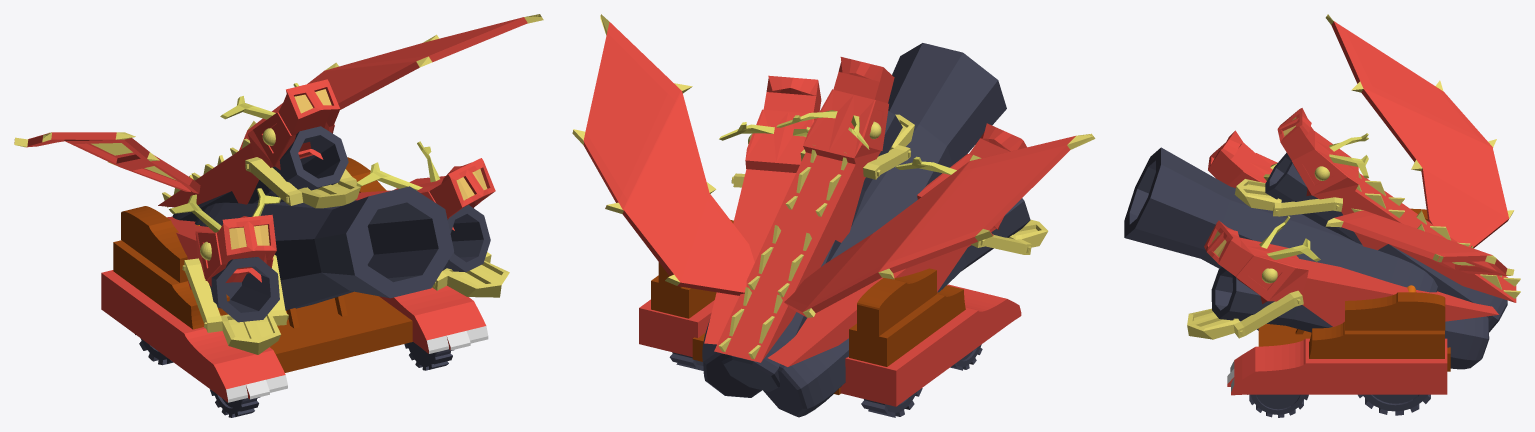
Rendered from Fire Tower Level 3.fbx.
3 renders of one model, left to right at view 1: azimuth 30°, elevation 25°; view 2: azimuth 150°, elevation 25°; view 3: azimuth 270°, elevation 25°, orthographic. The views are drawn at different scales.
Visible parts, largest first — view 1: Cube.035, Cube.027, Plane.015, Cube.032, Cube.026, Cube.020, Cube.034, Cube.023, Cube.029, Cube.021, Cube.028, Cube.022 (+4 smaller); view 2: Plane.015, Cube.032, Cube.035, Cube.027, Cube.023, Cube.020, Cube.028, Cube.022, Cube.029, Cube.034, Cube.025, Cube.033 (+5 smaller); view 3: Plane.015, Cube.035, Cube.023, Cube.027, Cube.032, Cube.025, Cube.028, Cube.034, Cube.029, Cube.024, Cube.020, Cube.033 (+4 smaller).
Boxes of the visible parts, left/top/right/bottom form: Cube.035: left=195, top=186, right=453, bottom=310; Cube.027: left=101, top=270, right=488, bottom=402; Plane.015: left=14, top=14, right=543, bottom=193; Cube.032: left=158, top=79, right=340, bottom=207; Cube.026: left=270, top=291, right=412, bottom=372; Cube.020: left=167, top=188, right=280, bottom=289; Cube.034: left=172, top=126, right=348, bottom=221; Cube.023: left=355, top=141, right=495, bottom=230; Cube.029: left=121, top=157, right=386, bottom=282; Cube.021: left=182, top=255, right=288, bottom=354; Cube.028: left=113, top=240, right=229, bottom=329; Cube.022: left=209, top=257, right=279, bottom=322; Plane.015: left=572, top=14, right=1095, bottom=317; Cube.032: left=714, top=57, right=894, bottom=362; Cube.035: left=830, top=43, right=1006, bottom=260; Cube.027: left=639, top=284, right=1021, bottom=406; Cube.023: left=704, top=75, right=821, bottom=344; Cube.020: left=768, top=123, right=1026, bottom=366; Cube.028: left=651, top=275, right=965, bottom=366; Cube.022: left=763, top=198, right=1030, bottom=417; Cube.029: left=658, top=220, right=936, bottom=336; Cube.034: left=721, top=111, right=902, bottom=391; Cube.025: left=702, top=320, right=761, bottom=397; Cube.033: left=800, top=114, right=914, bottom=179; Plane.015: left=1325, top=14, right=1514, bottom=275; Cube.035: left=1124, top=147, right=1437, bottom=292; Cube.023: left=1204, top=216, right=1498, bottom=326; Cube.027: left=1227, top=338, right=1447, bottom=395; Cube.032: left=1277, top=108, right=1516, bottom=302; Cube.025: left=1211, top=267, right=1489, bottom=369; Cube.028: left=1309, top=321, right=1444, bottom=358; Cube.034: left=1265, top=152, right=1507, bottom=332; Cube.029: left=1345, top=208, right=1445, bottom=330; Cube.024: left=1187, top=290, right=1303, bottom=339; Cube.020: left=1208, top=130, right=1277, bottom=187; Cube.033: left=1234, top=179, right=1342, bottom=216.
Size of the model in its own units: 4208 by 2383 by 3376.
